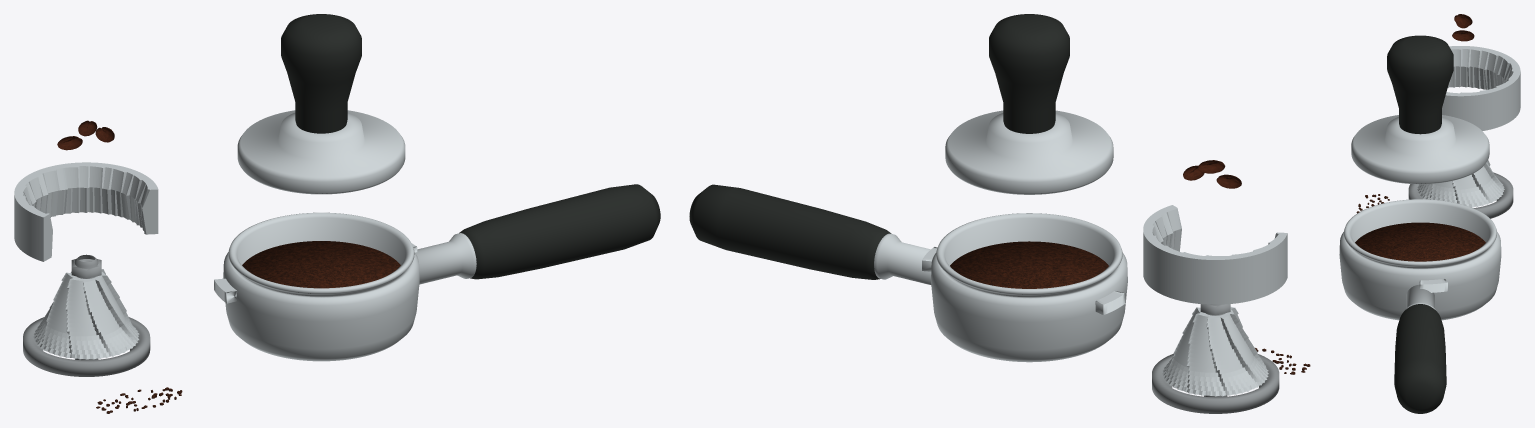
The model's file is grind-tamp.glb.
3 views of the same model, side by side, from view 1: azimuth 30°, elevation 25°; view 2: azimuth 150°, elevation 25°; view 3: azimuth 270°, elevation 25° (orthographic). The views are drawn at different scales.
Visible parts, largest first — view 1: PortafilterBody, Portafilter_ErgonomicHandle, Tamper_FlatSteelBase, OuterRing_CutawayBurr, Tamper_RoundedHandle, Basket, InnerCone_CuttingBurr, PreparedCoffeeBed, Burr_MountingCollar, Portafilter_HandleFerrule; view 2: PortafilterBody, Portafilter_ErgonomicHandle, Tamper_FlatSteelBase, OuterRing_CutawayBurr, Tamper_RoundedHandle, Basket, InnerCone_CuttingBurr, PreparedCoffeeBed, Burr_MountingCollar, Portafilter_HandleFerrule; view 3: PortafilterBody, Tamper_FlatSteelBase, Tamper_RoundedHandle, OuterRing_CutawayBurr, Portafilter_ErgonomicHandle, Basket, PreparedCoffeeBed, InnerCone_CuttingBurr, Burr_MountingCollar, Portafilter_HandleFerrule, Portafilter_LockingLug0, FeedBean_2 (+1 smaller).
Part boxes in pixels (x1,y1,x2,y2): PortafilterBody: [223, 252, 419, 361]; Portafilter_ErgonomicHandle: [459, 184, 660, 279]; Tamper_FlatSteelBase: [237, 110, 405, 194]; OuterRing_CutawayBurr: [14, 162, 158, 261]; Tamper_RoundedHandle: [281, 14, 361, 133]; Basket: [228, 212, 414, 296]; InnerCone_CuttingBurr: [33, 269, 139, 359]; PreparedCoffeeBed: [242, 241, 400, 288]; Burr_MountingCollar: [23, 317, 150, 376]; Portafilter_HandleFerrule: [415, 233, 476, 284]; PortafilterBody: [931, 253, 1127, 362]; Portafilter_ErgonomicHandle: [689, 184, 891, 279]; Tamper_FlatSteelBase: [945, 110, 1113, 194]; OuterRing_CutawayBurr: [1143, 205, 1287, 304]; Tamper_RoundedHandle: [989, 14, 1069, 133]; Basket: [936, 213, 1122, 296]; InnerCone_CuttingBurr: [1162, 307, 1268, 396]; PreparedCoffeeBed: [950, 241, 1108, 288]; Burr_MountingCollar: [1152, 354, 1279, 413]; Portafilter_HandleFerrule: [874, 233, 931, 284]; PortafilterBody: [1339, 232, 1501, 320]; Tamper_FlatSteelBase: [1351, 115, 1489, 184]; Tamper_RoundedHandle: [1387, 35, 1453, 134]; OuterRing_CutawayBurr: [1442, 46, 1520, 130]; Portafilter_ErgonomicHandle: [1394, 304, 1446, 413]; Basket: [1343, 199, 1496, 268]; PreparedCoffeeBed: [1355, 222, 1485, 261]; InnerCone_CuttingBurr: [1417, 160, 1504, 207]; Burr_MountingCollar: [1408, 172, 1513, 218]; Portafilter_HandleFerrule: [1404, 284, 1436, 310]; Portafilter_LockingLug0: [1419, 278, 1447, 292]; FeedBean_2: [1452, 30, 1474, 41].
Size of the model in its own units: 0.241 by 0.1172 by 0.076.
5 materials, 2 textured.
